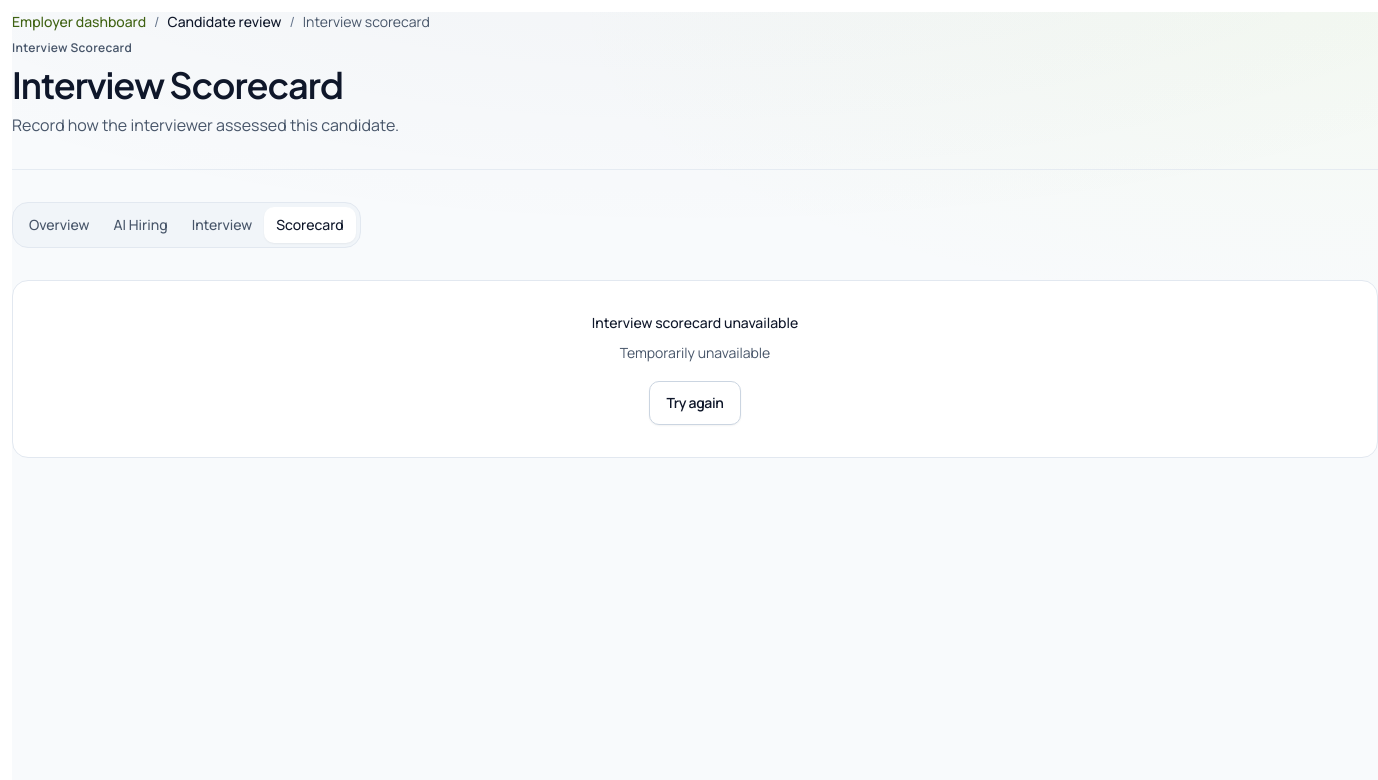
Test: EmployerInterviewScorecardWorkspace › retries failed GET from the error state
The width and height of the screenshot is (1378, 780).
Click the button "Try again".
click(695, 403)  # box [650,381,741,425]
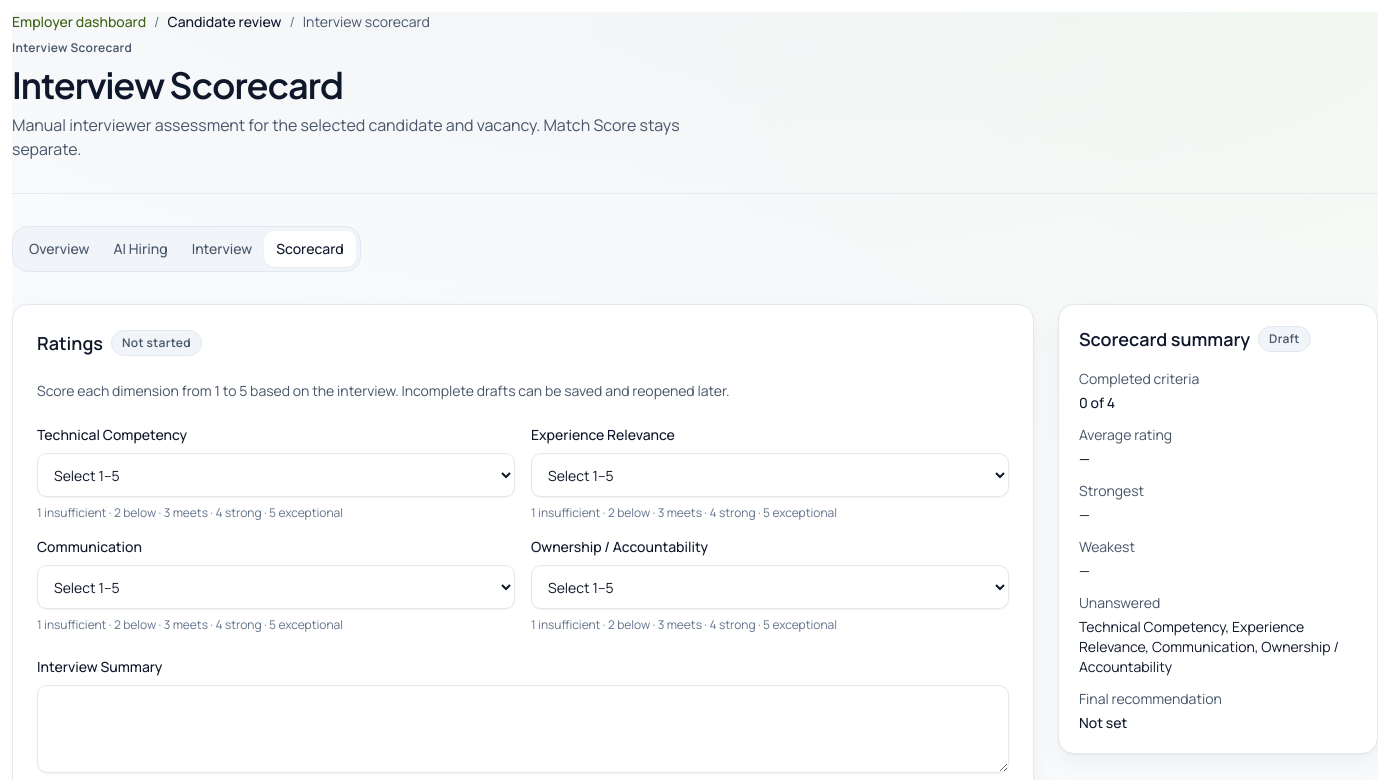
Expected: the dropdown labelled "Technical Competency" is shown, [37,453,515,497]
